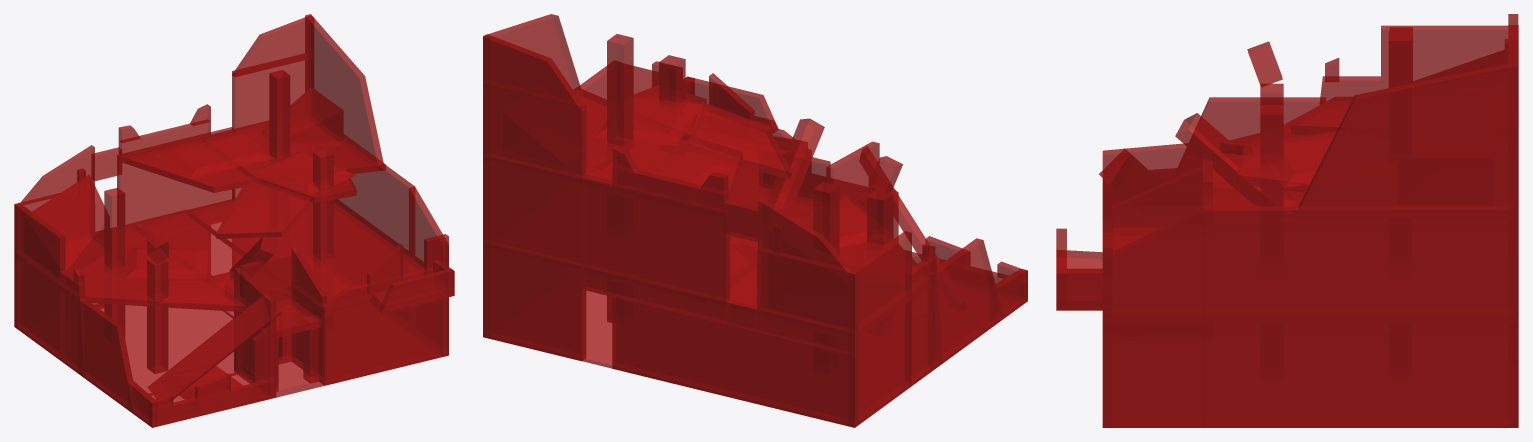
Rendered from SM_Bld_Destroyed_01_Collision.fbx.
The picture shows the model from 3 angles, left to right: view 1: azimuth 30°, elevation 25°; view 2: azimuth 150°, elevation 25°; view 3: azimuth 270°, elevation 25°; orthographic projection. The views are drawn at different scales.
Visible parts, largest first — view 1: SM_Bld_Destroyed_01_Collision; view 2: SM_Bld_Destroyed_01_Collision; view 3: SM_Bld_Destroyed_01_Collision.
Boxes of the visible parts, box(x1,y1,x2,y2) form: SM_Bld_Destroyed_01_Collision: box(14, 14, 454, 427); SM_Bld_Destroyed_01_Collision: box(483, 14, 1027, 427); SM_Bld_Destroyed_01_Collision: box(1056, 14, 1518, 427).
Size of the model in its own units: 1290 by 1016 by 1156.
